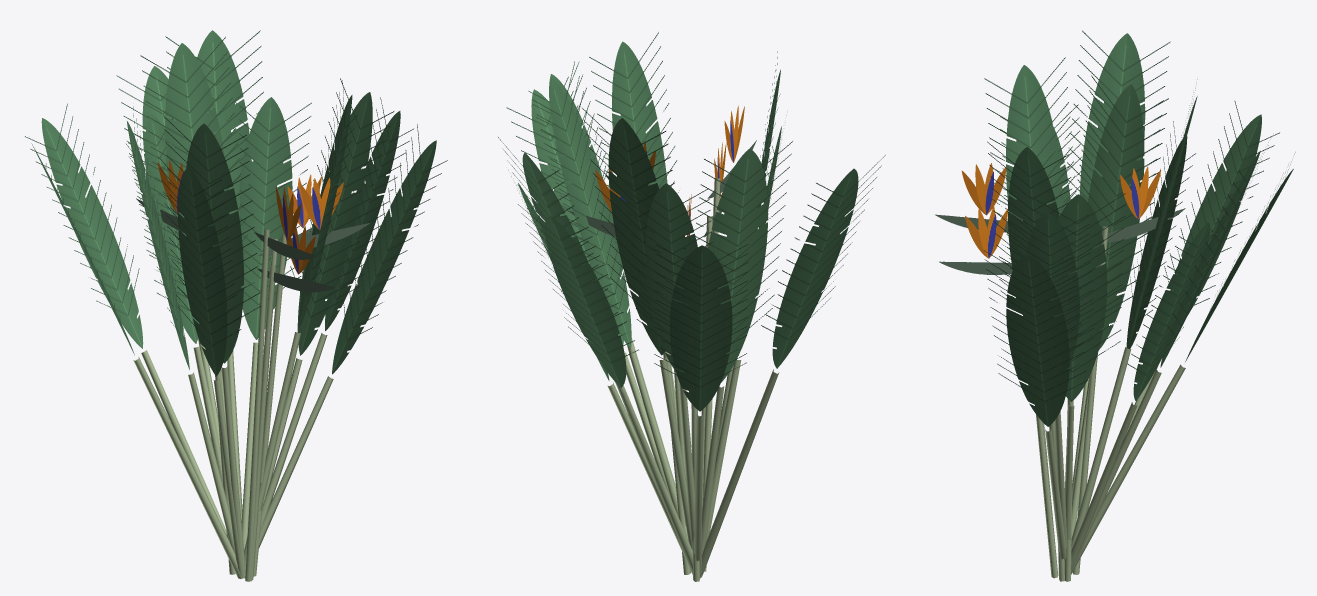
File: strelitzia-reginae.glb
3 renders of one model, left to right at view 1: azimuth 30°, elevation 25°; view 2: azimuth 150°, elevation 25°; view 3: azimuth 270°, elevation 25°, orthographic. The views are drawn at different scales.
Parts seen in each view (by area): view 1: folhas, peciolo, flores; view 2: folhas, peciolo, flores; view 3: folhas, peciolo, flores.
Boxes of the visible parts, x1,y1,x2,y2 form: folhas: (25,30,447,376); peciolo: (133,229,333,581); flores: (136,160,369,292); folhas: (498,32,885,411); peciolo: (607,178,779,581); flores: (569,105,756,237); folhas: (984,30,1295,426); peciolo: (1019,218,1185,581); flores: (935,163,1185,303).
Size of the model in its own units: 1.2 by 1.5 by 1.02.
Materials: 3 (2 with a texture image).
